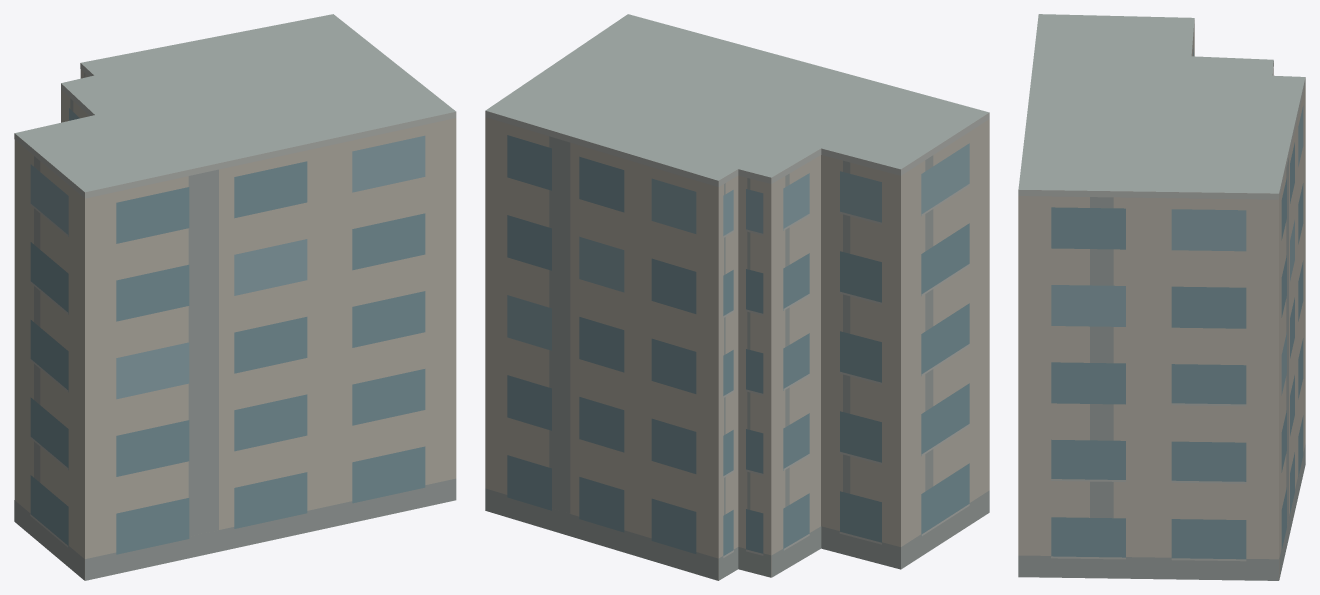
The model's file is survey-upis-33042582.glb.
3 renders of one model, left to right at view 1: azimuth 30°, elevation 25°; view 2: azimuth 150°, elevation 25°; view 3: azimuth 270°, elevation 25°, orthographic. The views are drawn at different scales.
Parts seen in each view (by area): view 1: survey-upis-33042582.tmp; view 2: survey-upis-33042582.tmp; view 3: survey-upis-33042582.tmp.
Part boxes in pixels (box(x1,y1,x2,y2)): survey-upis-33042582.tmp: box(14, 14, 456, 580); survey-upis-33042582.tmp: box(485, 14, 989, 580); survey-upis-33042582.tmp: box(1018, 14, 1305, 580).
Size of the model in its own units: 15.12 by 15.2 by 10.22.
